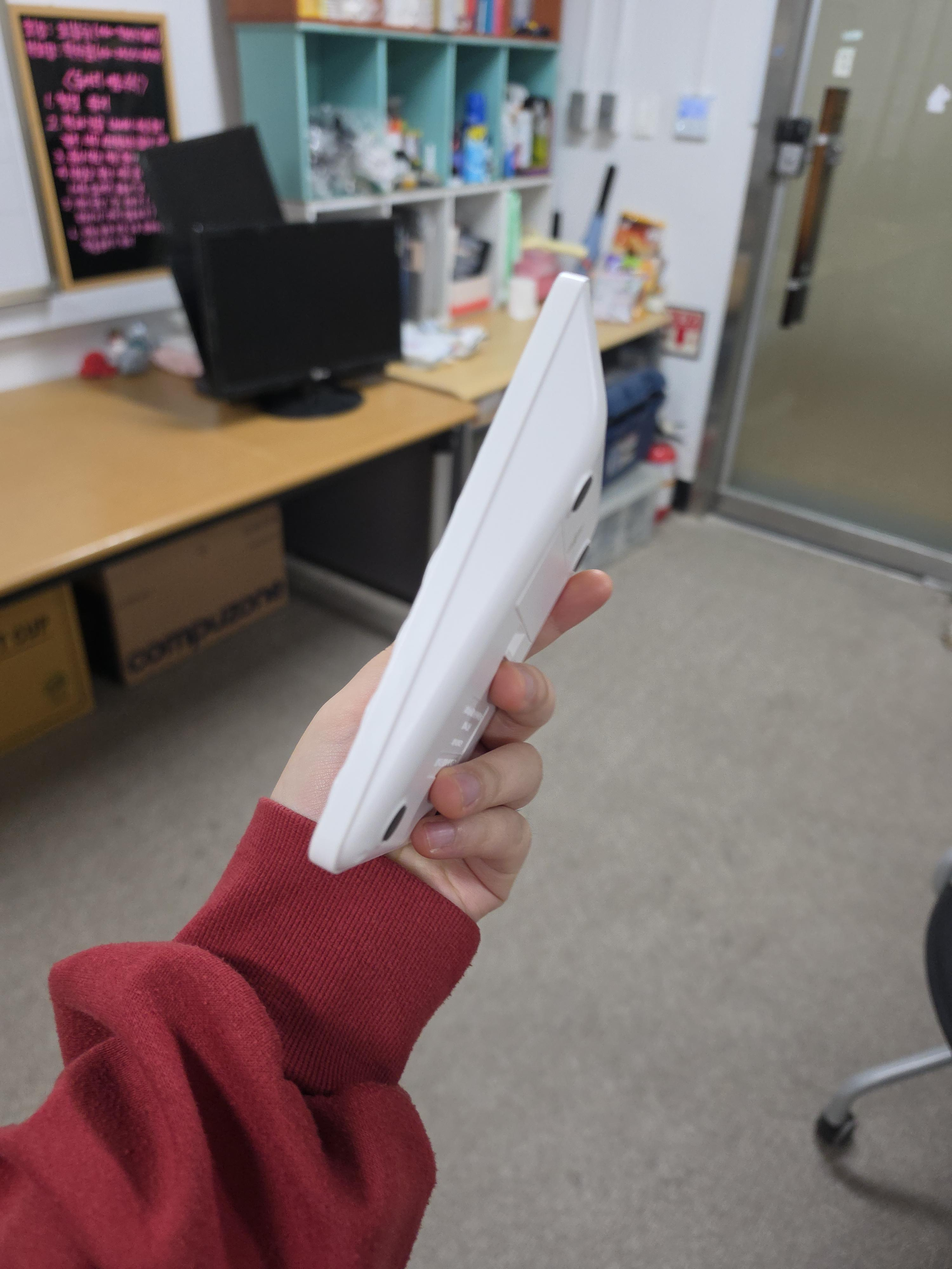calculator: (308, 271, 608, 876)
